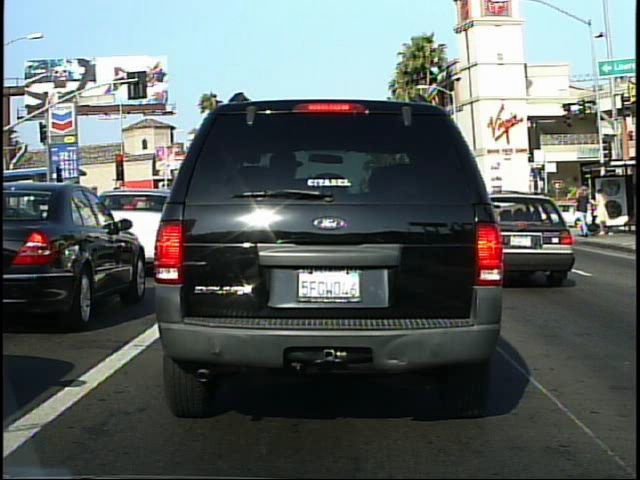person: (593, 185, 615, 237), (574, 185, 592, 238)
